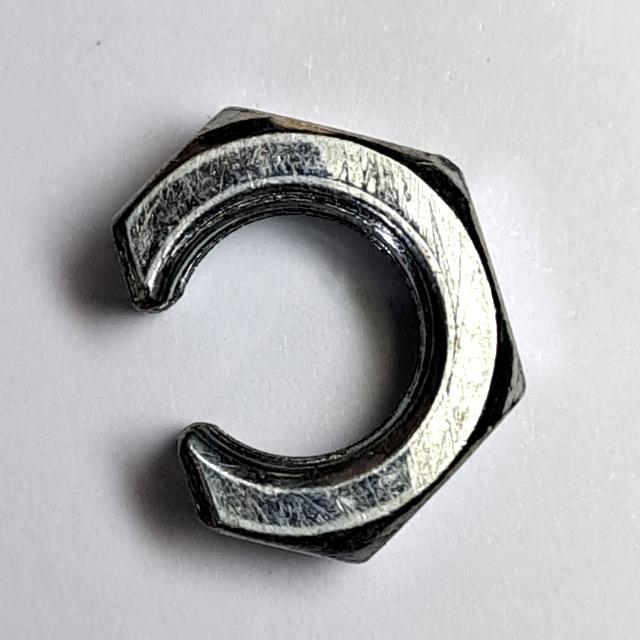Fracture: (100, 90, 544, 583)
